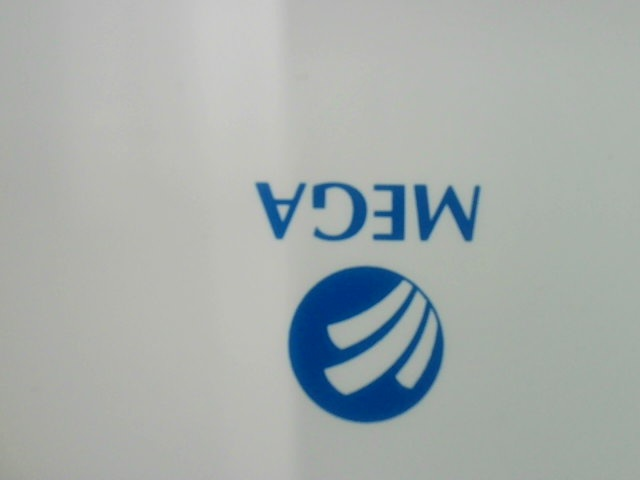AM_ZTEMEGA: (238, 159, 512, 435)
